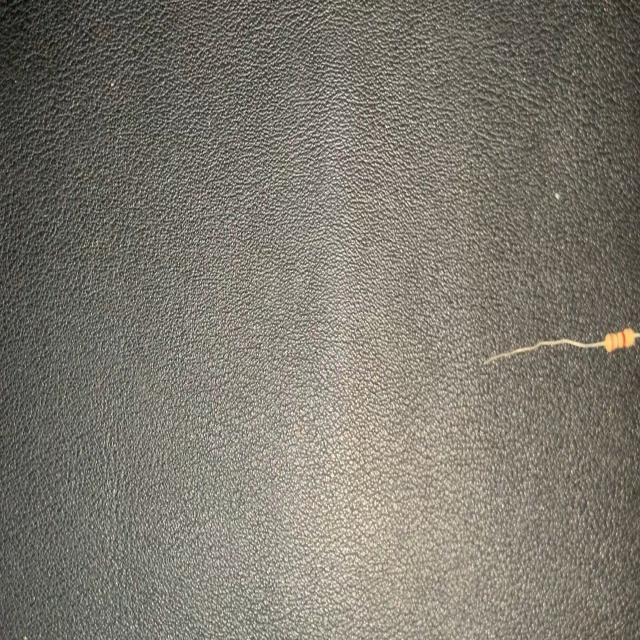resistor: (486, 327, 640, 365)
